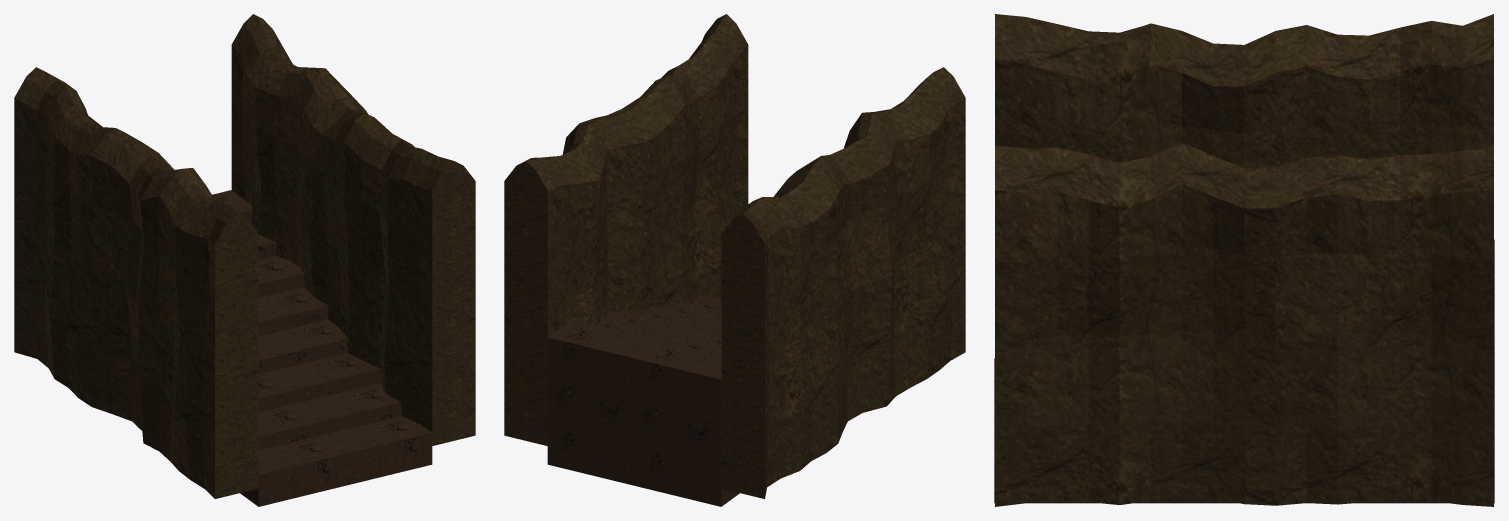
Rendered from cave_stairs_01_dirt.glb.
3 renders of one model, left to right at view 1: azimuth 30°, elevation 25°; view 2: azimuth 150°, elevation 25°; view 3: azimuth 270°, elevation 25°, orthographic. The views are drawn at different scales.
Visible parts, largest first — view 1: cave_stairs_01_dirt; view 2: cave_stairs_01_dirt; view 3: cave_stairs_01_dirt.
Part boxes in pixels (bbox=[...]): cave_stairs_01_dirt: bbox=[14, 14, 475, 506]; cave_stairs_01_dirt: bbox=[504, 14, 965, 506]; cave_stairs_01_dirt: bbox=[994, 14, 1494, 506].
Bounding box in the file's own units: 3.09 × 3.28 × 4.01.
2 materials, 2 textured.
